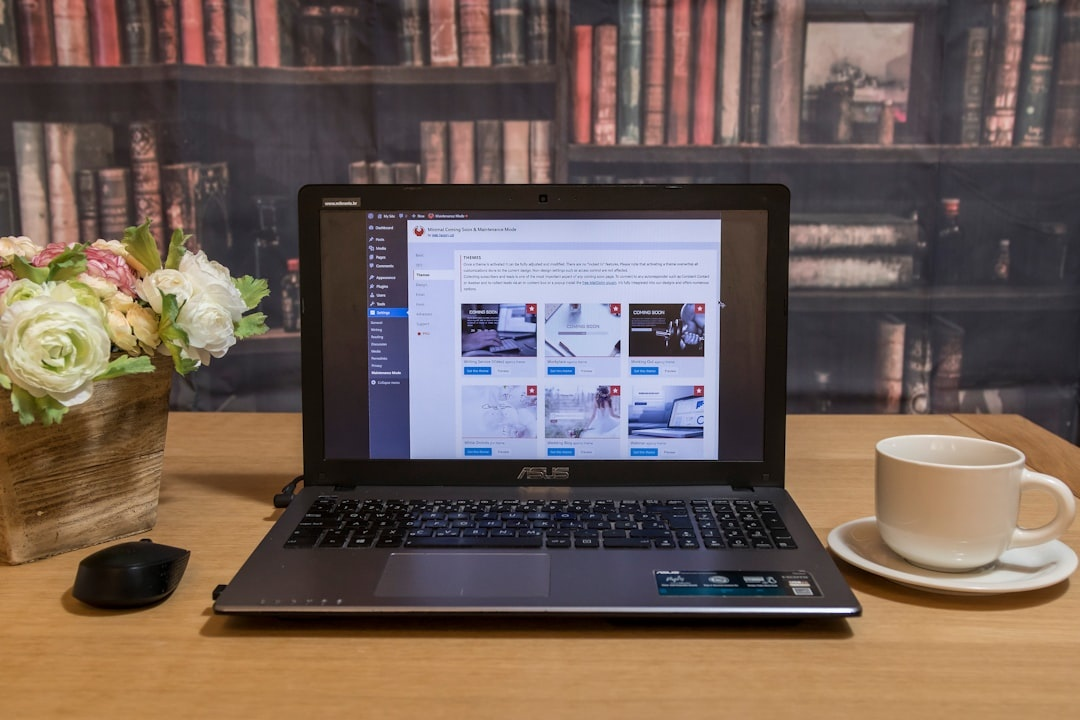laptop: (193, 172, 865, 647)
